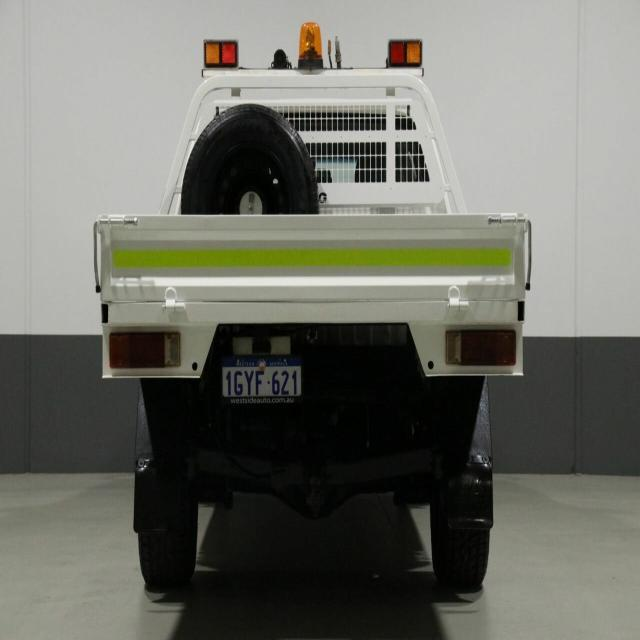light_vehicle: (80, 17, 546, 603)
